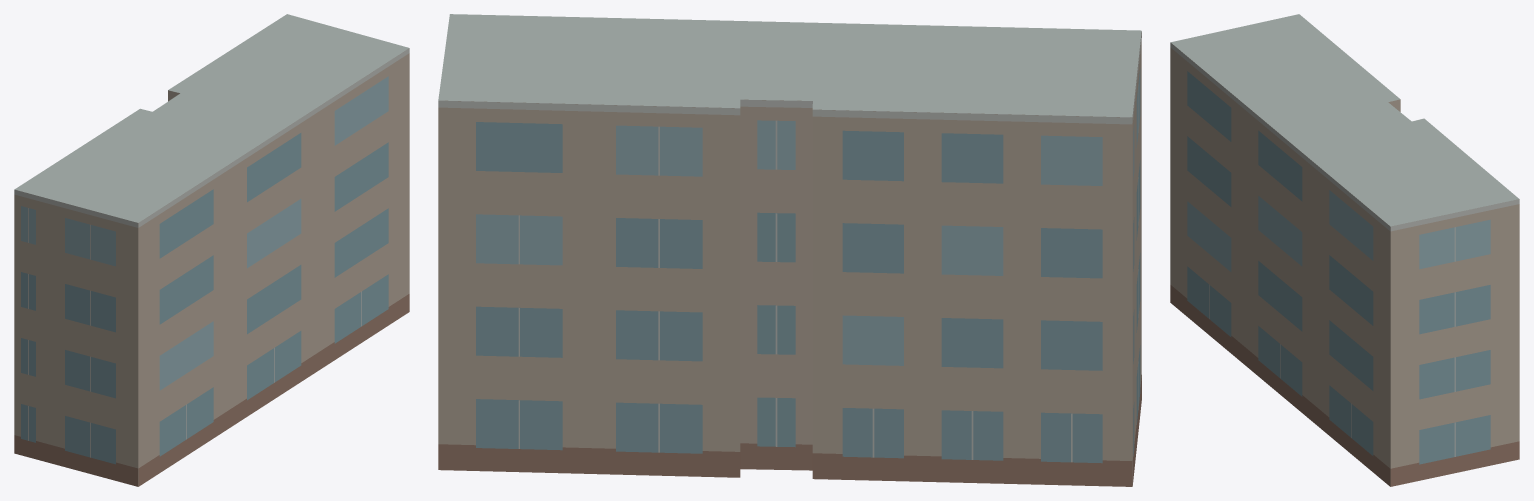
Rendered from survey-upis-32822712.glb.
3 views of the same model, side by side, from view 1: azimuth 30°, elevation 25°; view 2: azimuth 150°, elevation 25°; view 3: azimuth 270°, elevation 25° (orthographic). The views are drawn at different scales.
Parts seen in each view (by area): view 1: survey-upis-32822712.tmp; view 2: survey-upis-32822712.tmp; view 3: survey-upis-32822712.tmp.
Boxes of the visible parts, x1,y1,x2,y2 form: survey-upis-32822712.tmp: (14,14,409,486); survey-upis-32822712.tmp: (438,14,1141,486); survey-upis-32822712.tmp: (1170,14,1519,486).
Size of the model in its own units: 22.42 by 12.8 by 15.56.
